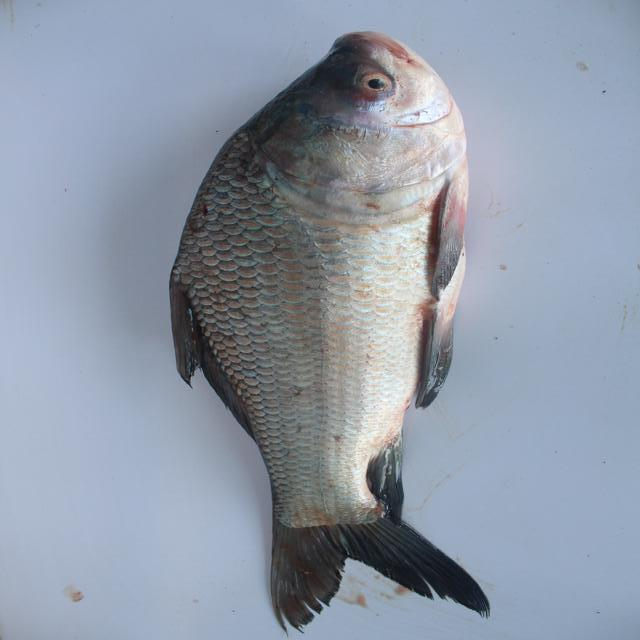Catla: (154, 28, 533, 626)
